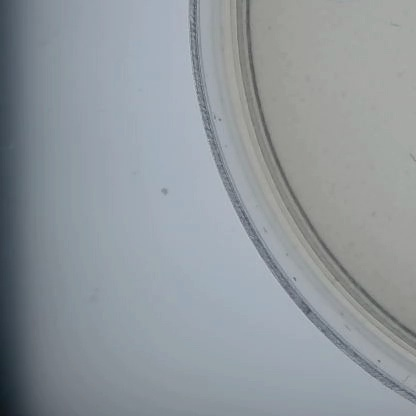worm: (383, 19, 407, 32), (403, 149, 416, 173)
